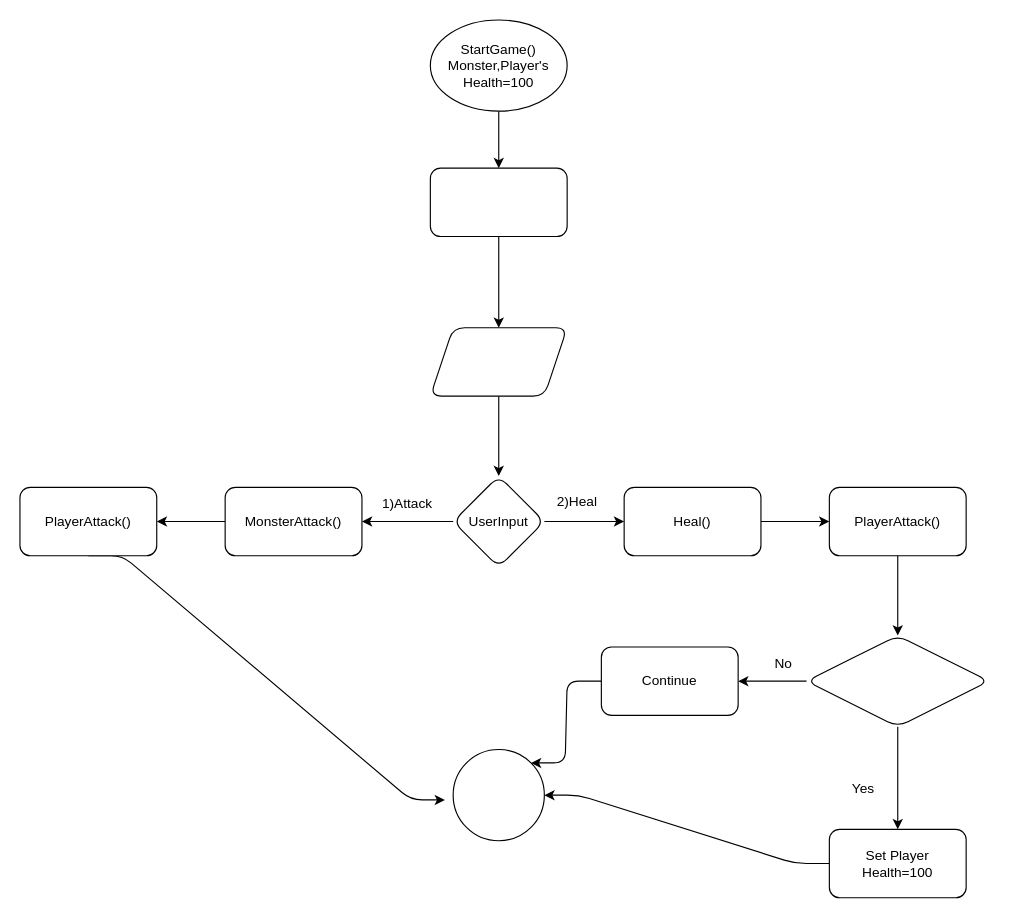
The diagram is 1009 pixels wide and 918 high, and some of its shapes have lost their labels. Here are the shapes that lost their labels. From the top down, the centre of each, then its label:
At (498,202): "Show Msg Instruction 1)Attack 2)Heal".
At (498,361): "Userchoice".
At (897,680): "Player'sHealth>100?".
At (498,794): "EndRound() show health status".
